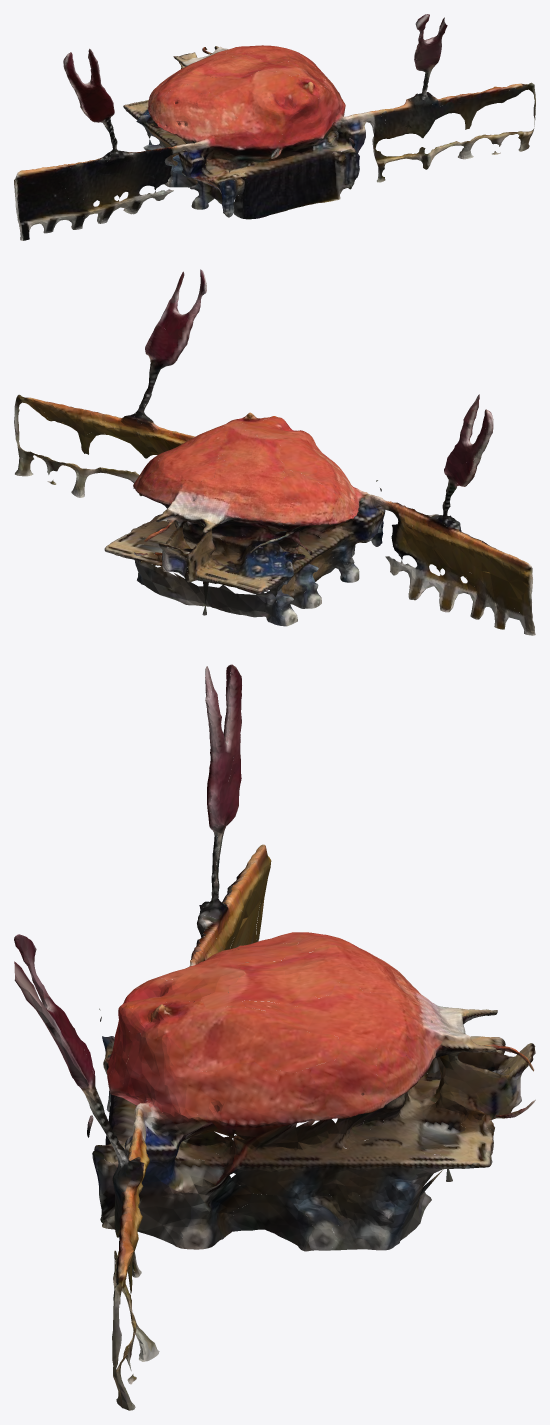
Rendered from kanirobo3.glb.
The picture shows the model from 3 angles, top to bottom: view 1: azimuth 30°, elevation 25°; view 2: azimuth 150°, elevation 25°; view 3: azimuth 270°, elevation 25°; orthographic projection. The views are drawn at different scales.
Parts seen in each view (by area): view 1: mesh; view 2: mesh; view 3: mesh.
Boxes of the visible parts, x1,y1,x2,y2 form: mesh: [14, 14, 535, 240]; mesh: [14, 269, 535, 635]; mesh: [14, 664, 535, 1410].
Bounding box in the file's own units: 0.5565 × 0.2042 × 0.2727.
Materials: 1 (1 with a texture image).
